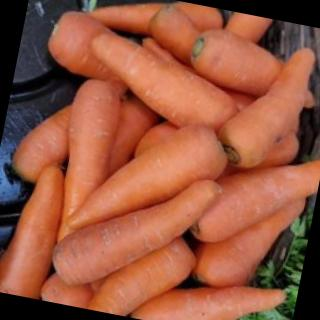Wortel: (43, 150, 227, 311), (63, 101, 235, 256), (78, 29, 253, 142), (210, 33, 320, 184)
